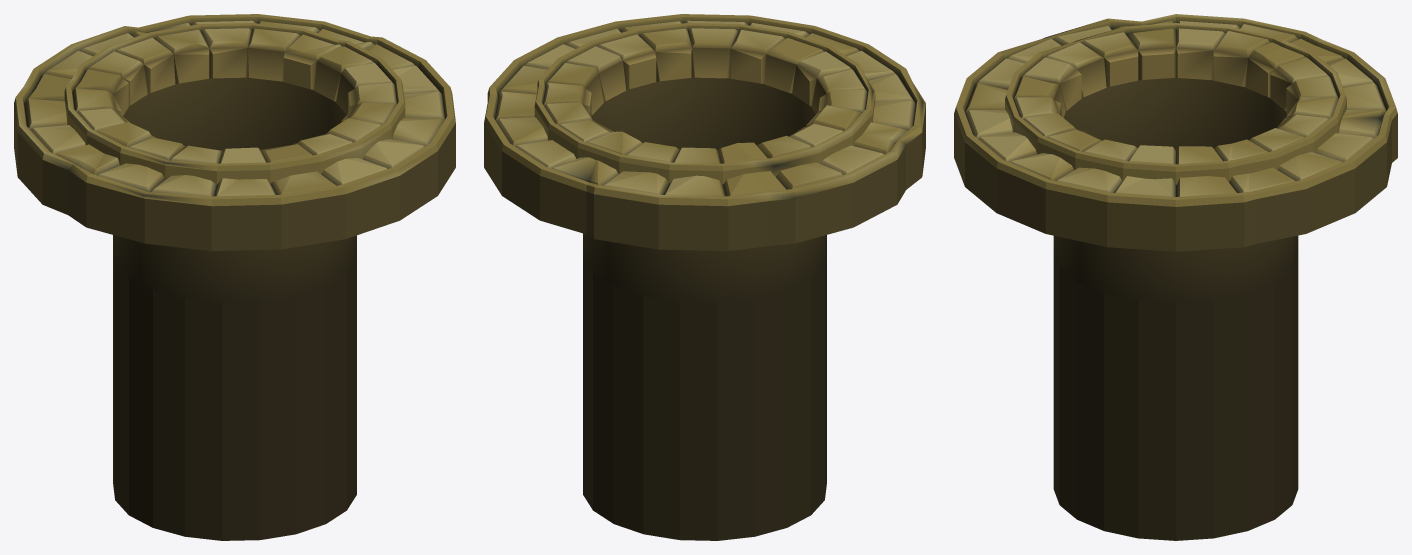
The model's file is ENV_RTS_Pit_01.fbx.
3 views of the same model, side by side, from view 1: azimuth 30°, elevation 25°; view 2: azimuth 150°, elevation 25°; view 3: azimuth 270°, elevation 25° (orthographic).
Parts seen in each view (by area): view 1: ENV_RTS_Pit_01; view 2: ENV_RTS_Pit_01; view 3: ENV_RTS_Pit_01.
Boxes of the visible parts, <box> form: ENV_RTS_Pit_01: <box>14,14,455,540</box>; ENV_RTS_Pit_01: <box>484,14,925,540</box>; ENV_RTS_Pit_01: <box>954,14,1397,540</box>.
Size of the model in its own units: 600 by 591 by 600.
